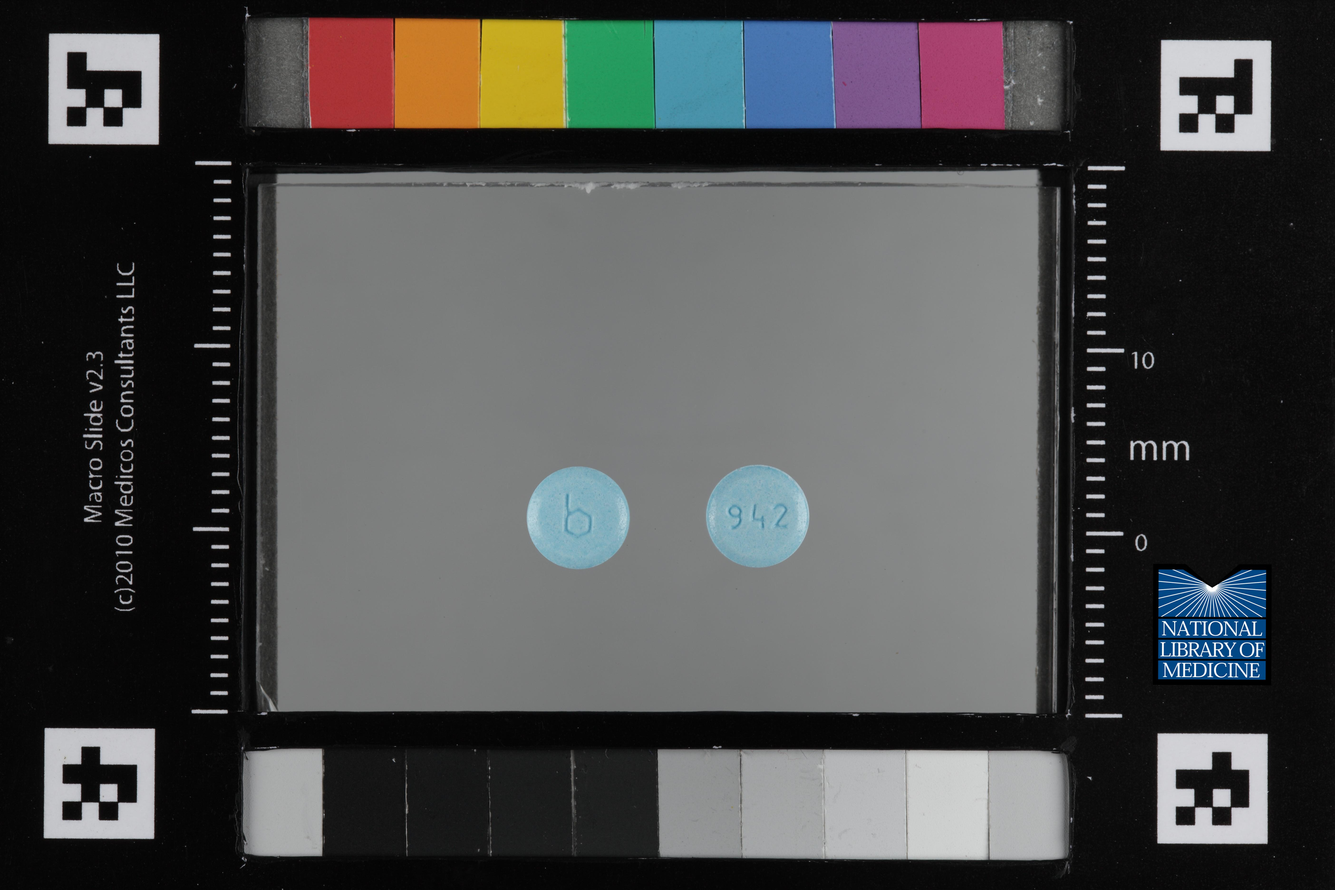Pill: (518, 461, 637, 576), (701, 461, 816, 574)
